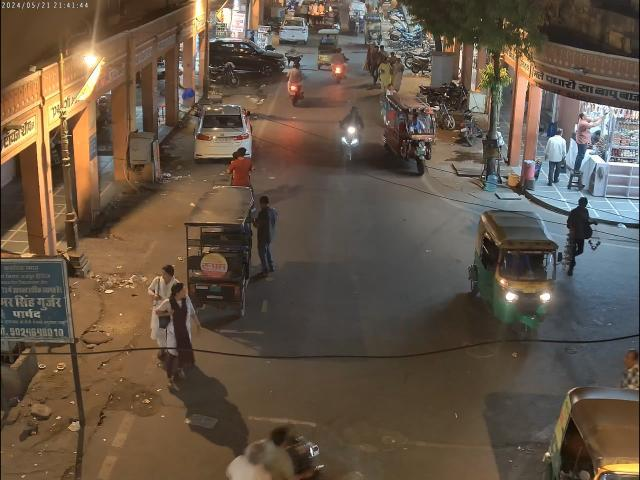auto: (473, 209, 565, 337), (543, 382, 640, 478), (185, 183, 249, 316), (380, 90, 439, 181)
car: (190, 103, 256, 162), (212, 34, 286, 80)
license_plate: (522, 286, 538, 294)
motorbike-rider: (284, 60, 306, 109)
person: (142, 266, 205, 373), (566, 197, 594, 274), (254, 199, 276, 274), (542, 129, 568, 191)
scooty-rider: (336, 102, 364, 170)
